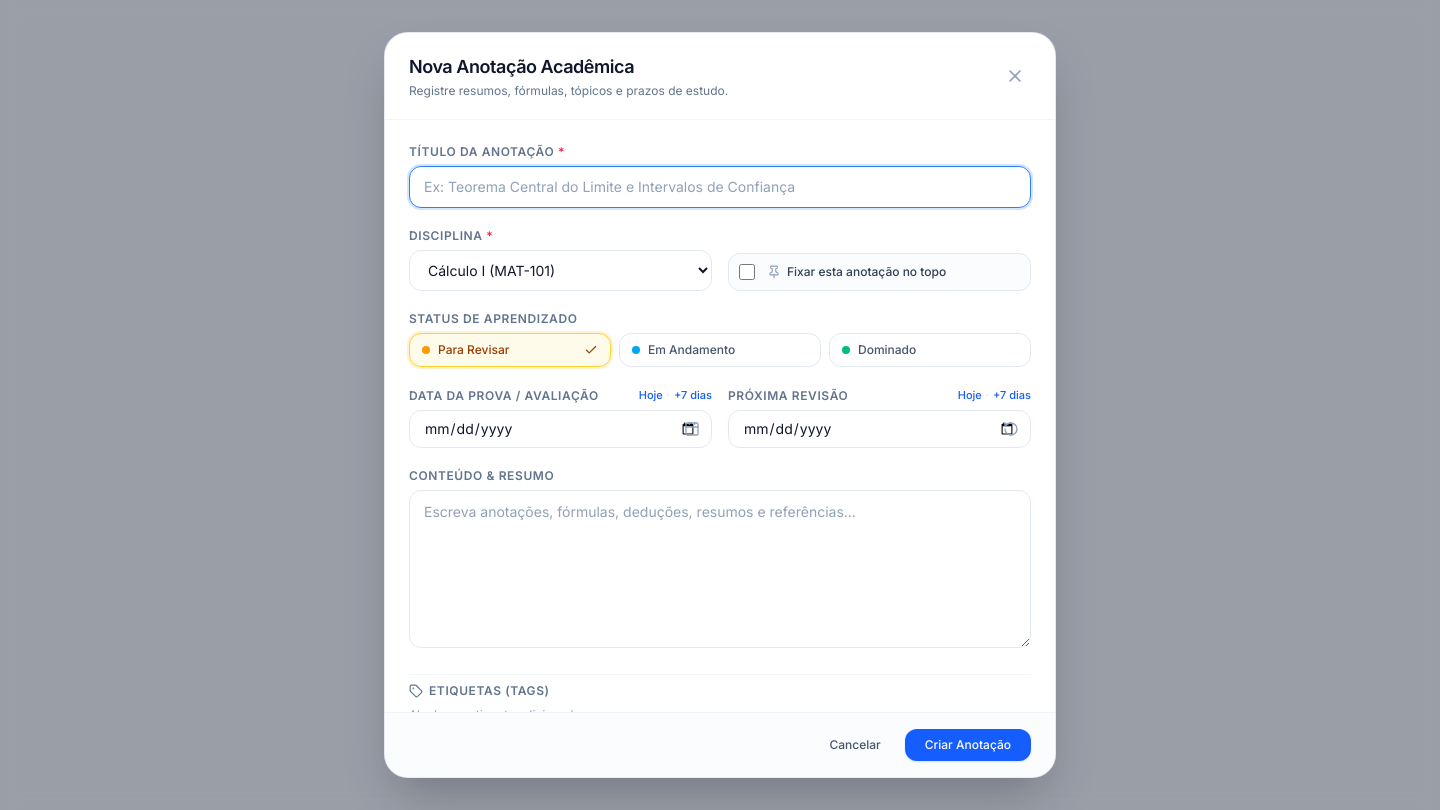
Test case: NoteModal › valida que o título é obrigatório ao tentar salvar em branco
Click the button "Criar Anotação" at (968, 745), box [905,729,1031,761]
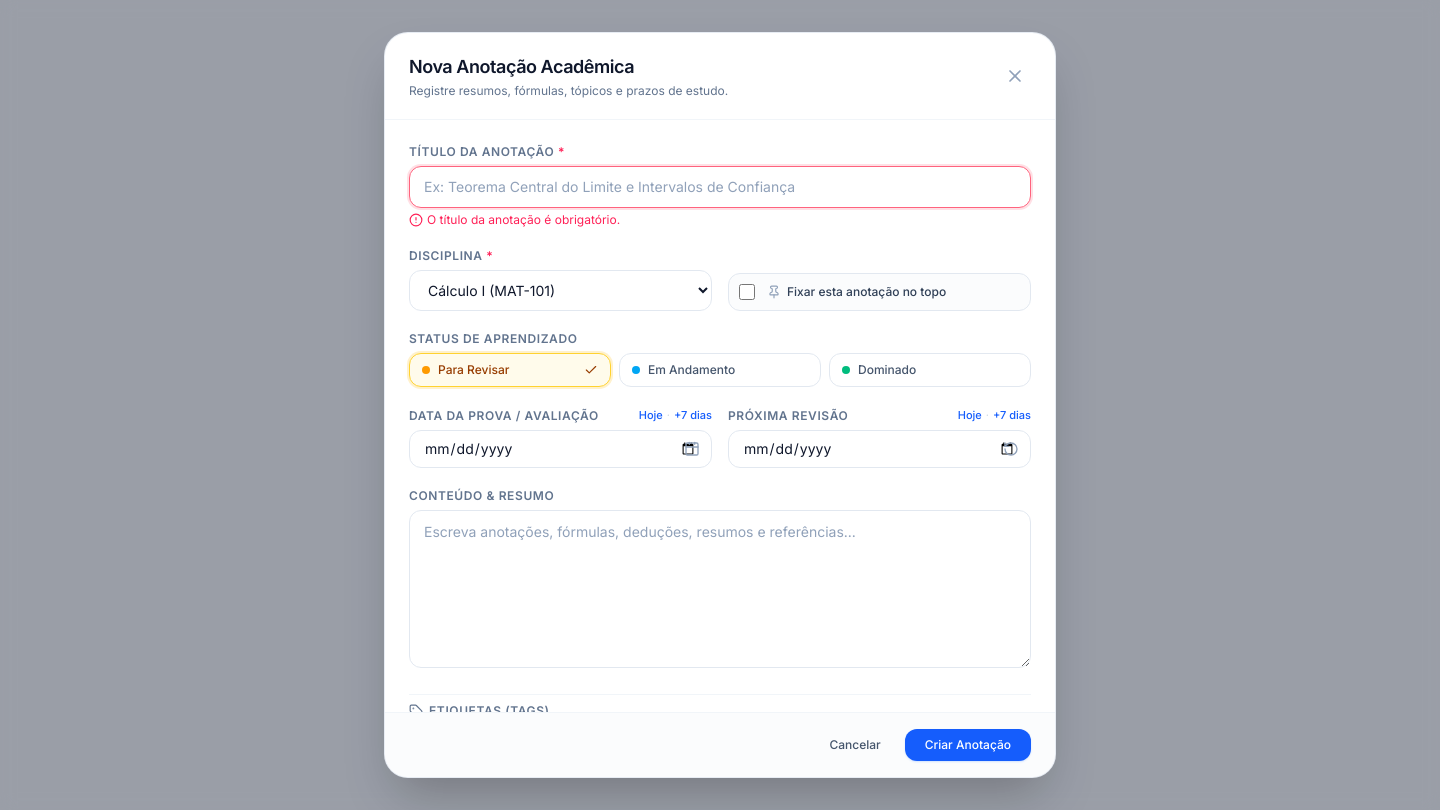
Check: the text "O título da anotação é obrigatório." is shown, box [409,212,620,227]
